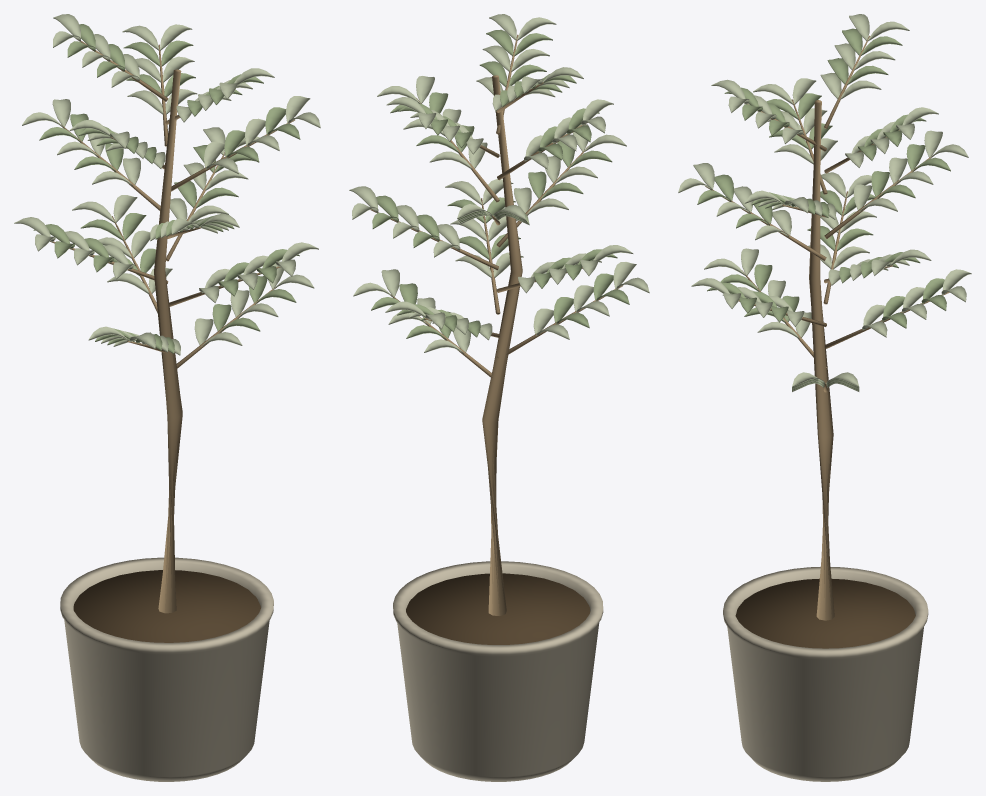
File: olive.glb
3 renders of one model, left to right at view 1: azimuth 30°, elevation 25°; view 2: azimuth 150°, elevation 25°; view 3: azimuth 270°, elevation 25°, orthographic. The views are drawn at different scales.
Visible parts, largest first — view 1: olive__body, olive__young_leaves, olive__leaves, olive__soil, olive__bark; view 2: olive__body, olive__young_leaves, olive__leaves, olive__soil, olive__bark; view 3: olive__body, olive__young_leaves, olive__leaves, olive__soil, olive__bark.
Part boxes in pixels (bbox=[...]): olive__body: bbox=[60, 557, 273, 781]; olive__young_leaves: bbox=[14, 14, 320, 355]; olive__leaves: bbox=[33, 24, 300, 353]; olive__soil: bbox=[73, 570, 260, 642]; olive__bark: bbox=[50, 39, 294, 613]; olive__body: bbox=[393, 561, 603, 781]; olive__young_leaves: bbox=[349, 14, 649, 353]; olive__leaves: bbox=[371, 29, 629, 339]; olive__soil: bbox=[406, 573, 590, 644]; olive__bark: bbox=[370, 34, 622, 615]; olive__body: bbox=[723, 567, 928, 781]; olive__young_leaves: bbox=[678, 14, 971, 391]; olive__leaves: bbox=[697, 28, 950, 390]; olive__soil: bbox=[735, 578, 915, 648]; olive__bark: bbox=[705, 35, 949, 620].
Size of the model in its own units: 0.4012 by 1.04 by 0.4008.
